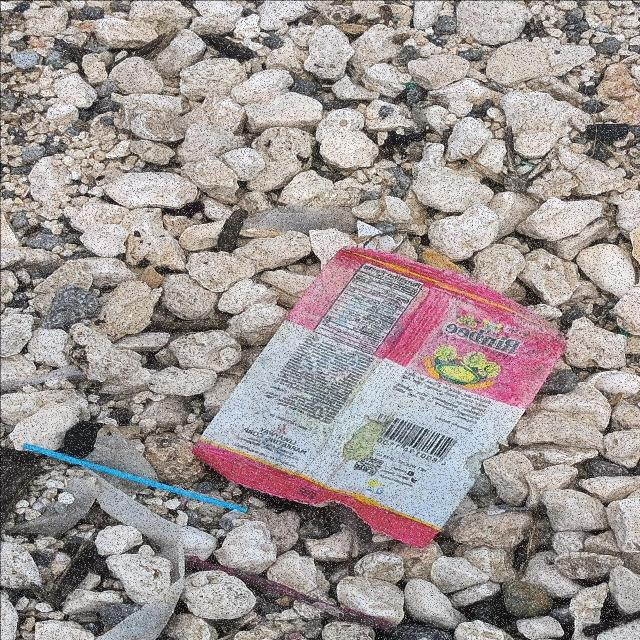plastic_waste: (191, 247, 571, 550), (21, 442, 249, 514)
